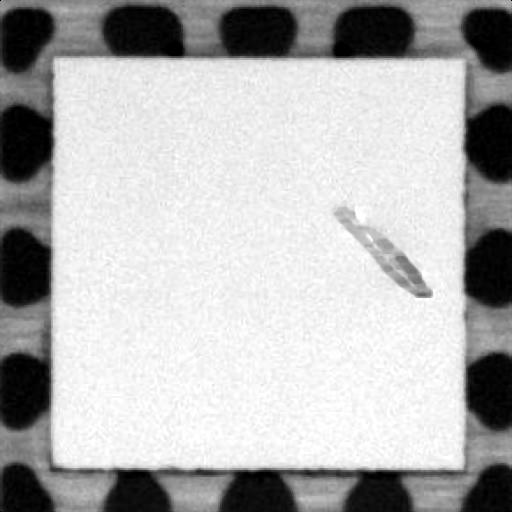DIE_INK: (327, 200, 431, 298)
